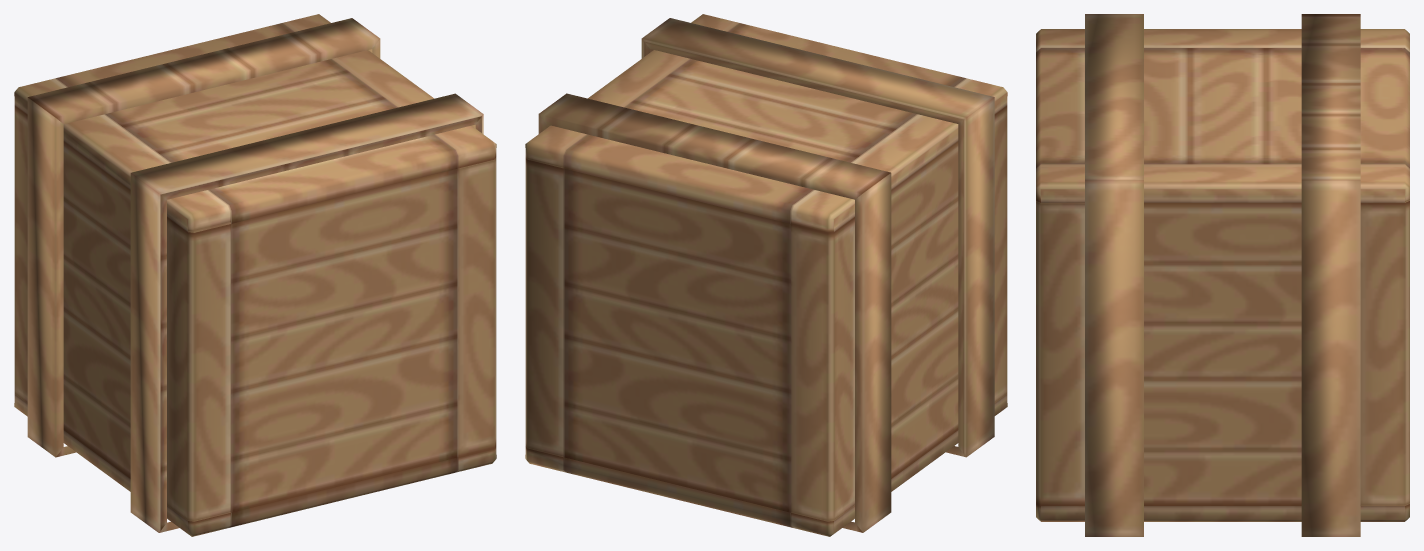
File: int_oth_fragile.dae
3 views of the same model, side by side, from view 1: azimuth 30°, elevation 25°; view 2: azimuth 150°, elevation 25°; view 3: azimuth 270°, elevation 25° (orthographic). The views are drawn at different scales.
Parts seen in each view (by area): view 1: int_oth_fragile; view 2: int_oth_fragile; view 3: int_oth_fragile.
Part boxes in pixels (bbox=[...]): int_oth_fragile: bbox=[14, 14, 496, 536]; int_oth_fragile: bbox=[525, 14, 1007, 536]; int_oth_fragile: bbox=[1036, 14, 1409, 536].
Bounding box in the file's own units: 32 × 32 × 30.4.
Materials: 1 (1 with a texture image).
